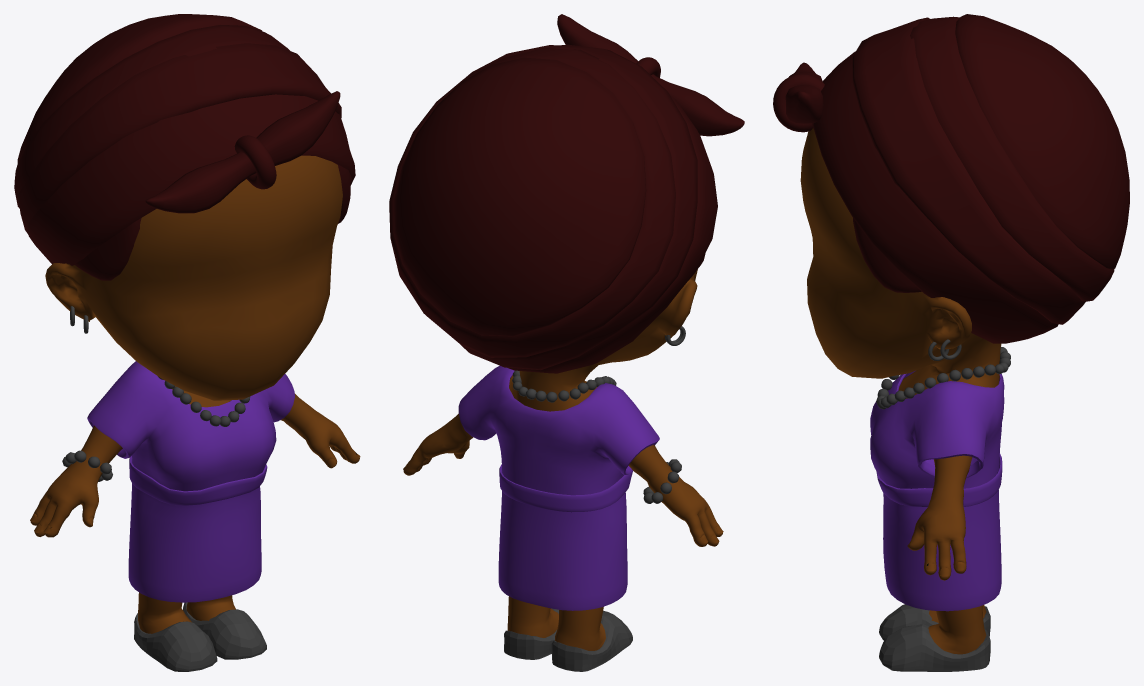
File: female_ver_03.FBX
The picture shows the model from 3 angles, left to right: view 1: azimuth 30°, elevation 25°; view 2: azimuth 150°, elevation 25°; view 3: azimuth 270°, elevation 25°; orthographic projection. The views are drawn at different scales.
Visible parts, largest first — view 1: gfgfrg1:heasd_cloth, body9, gfgfrg1:shirt, shoes2, hair4, gfgfrg1:belt, gfgfrg1:neckless; view 2: gfgfrg1:heasd_cloth, gfgfrg1:shirt, body9, shoes2, gfgfrg1:belt, gfgfrg1:neckless; view 3: gfgfrg1:heasd_cloth, body9, gfgfrg1:shirt, shoes2, gfgfrg1:neckless, gfgfrg1:belt, hair4.
Boxes of the visible parts, box(x1,y1,x2,y2) form: gfgfrg1:heasd_cloth: box(14, 14, 355, 265); body9: box(30, 155, 360, 633); gfgfrg1:shirt: box(87, 361, 294, 602); shoes2: box(134, 602, 266, 671); hair4: box(74, 165, 350, 280); gfgfrg1:belt: box(129, 456, 267, 505); gfgfrg1:neckless: box(62, 376, 250, 481); gfgfrg1:heasd_cloth: box(389, 14, 744, 373); gfgfrg1:shirt: box(458, 365, 659, 610); body9: box(403, 269, 723, 650); shoes2: box(504, 608, 632, 671); gfgfrg1:belt: box(499, 464, 632, 512); gfgfrg1:neckless: box(512, 370, 681, 503); gfgfrg1:heasd_cloth: box(773, 14, 1129, 343); body9: box(800, 128, 1001, 654); gfgfrg1:shirt: box(870, 370, 1004, 611); shoes2: box(879, 604, 990, 671); gfgfrg1:neckless: box(876, 347, 1010, 409); gfgfrg1:belt: box(876, 453, 1002, 506); hair4: box(812, 123, 921, 292).
Bounding box in the file's own units: 6.25 × 11.43 × 5.95.
